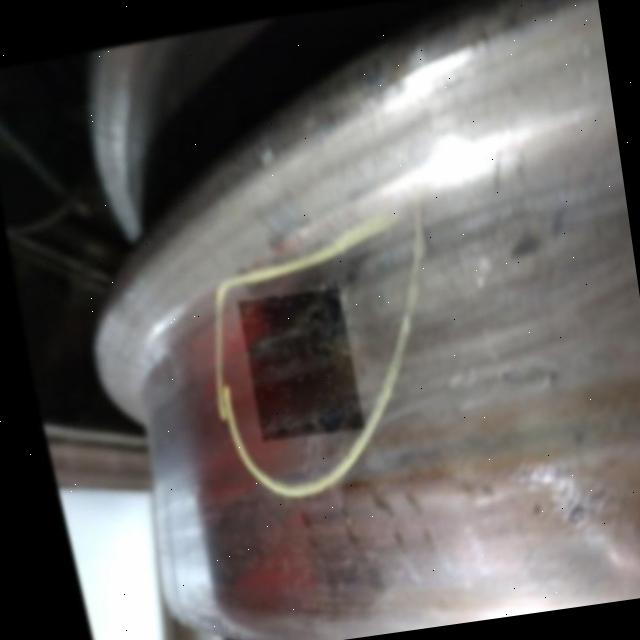Rollerpile: (226, 280, 365, 446)
